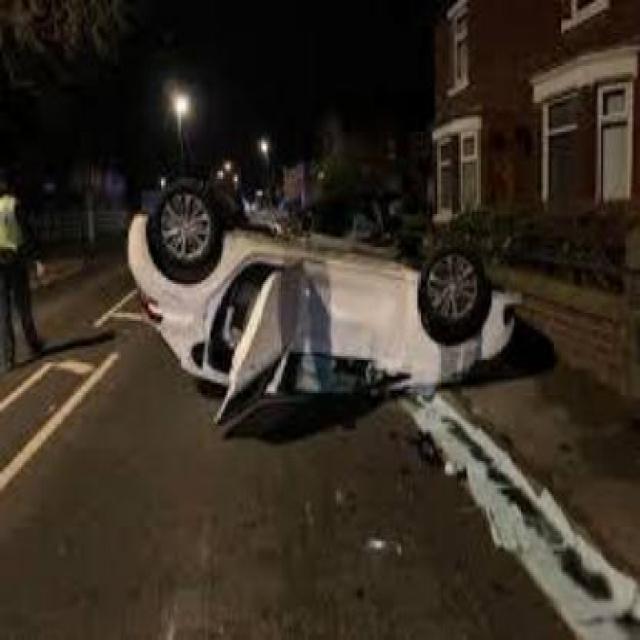accident: (121, 170, 525, 437)
